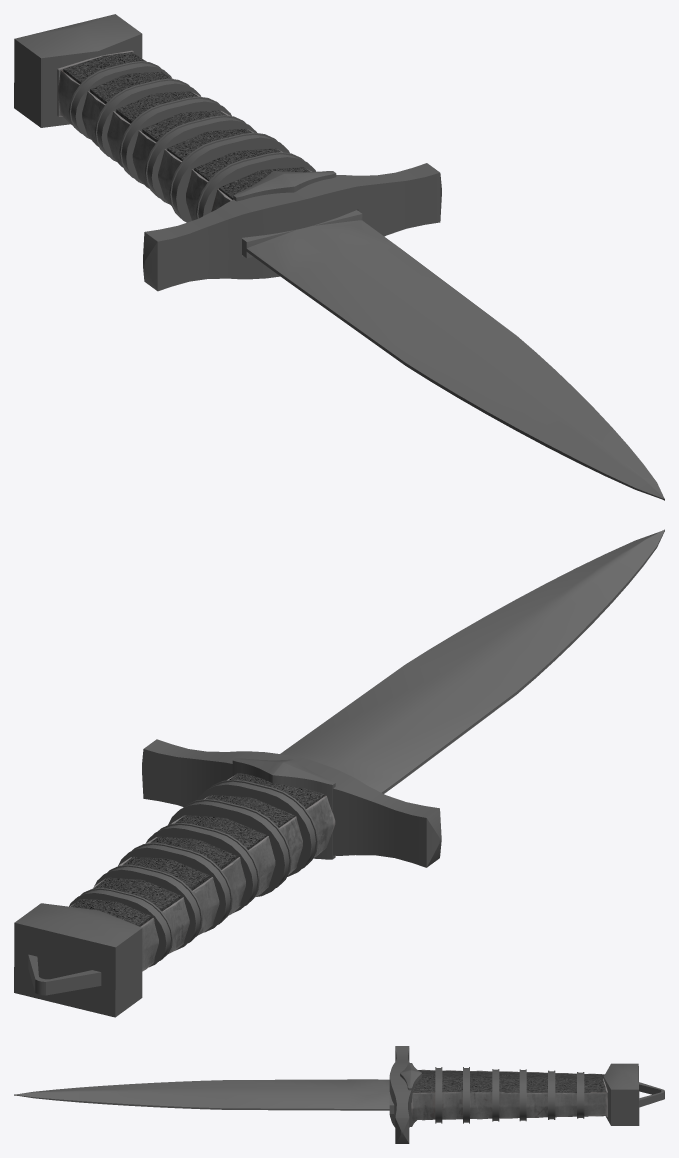
The model's file is DaggerRetry.glb.
3 views of the same model, one above another, from view 1: azimuth 30°, elevation 25°; view 2: azimuth 150°, elevation 25°; view 3: azimuth 270°, elevation 25° (orthographic). The views are drawn at different scales.
Parts seen in each view (by area): view 1: blade_low, thing_low, rings_low, end_low, grip_low, leather_low, thing1_low; view 2: blade_low, rings_low, thing_low, end_low, grip_low, leather_low, thing1_low; view 3: blade_low, leather_low, grip_low, end_low, rings_low, thing_low, thing1_low.
Boxes of the visible parts, x1,y1,x2,y2 form: blade_low: (242,210,664,500); thing_low: (143,163,441,291); rings_low: (68,61,316,222); end_low: (14,14,142,127); grip_low: (63,52,310,199); leather_low: (58,59,311,220); thing1_low: (233,171,336,201); blade_low: (280,529,664,793); rings_low: (69,779,318,967); thing_low: (142,739,441,867); end_low: (14,903,142,1017); grip_low: (71,773,324,926); leather_low: (70,775,335,971); thing1_low: (232,758,335,859); blade_low: (14,1079,394,1113); leather_low: (411,1069,606,1120); grip_low: (412,1070,606,1120); end_low: (603,1063,664,1125); rings_low: (435,1067,584,1123); thing_low: (389,1046,411,1143); thing1_low: (400,1063,422,1126).
Bounding box in the file's own units: 3.44 × 1.04 × 12.5.
4 materials, 2 textured.
